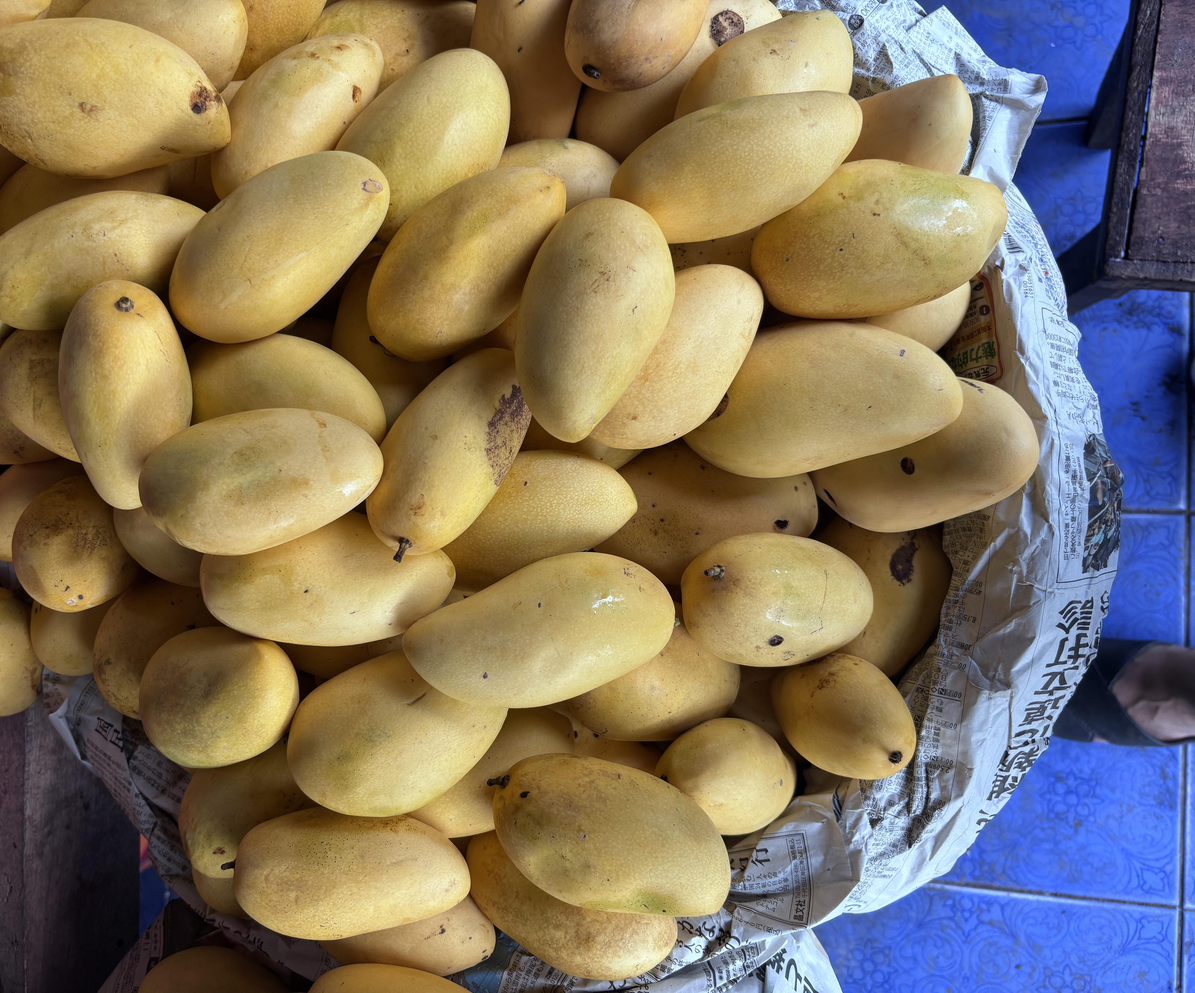mango: (685, 320, 962, 477), (169, 151, 389, 343), (404, 552, 673, 708), (752, 159, 1007, 319), (367, 166, 566, 361), (515, 198, 674, 442), (494, 754, 730, 917), (610, 91, 861, 242), (139, 408, 382, 555), (234, 807, 470, 942), (682, 532, 873, 667), (139, 627, 299, 768)
occluded: (0, 19, 230, 178), (287, 651, 507, 816), (366, 348, 531, 562), (812, 379, 1039, 532), (201, 512, 455, 646), (336, 48, 510, 241), (574, 0, 781, 161), (593, 440, 818, 584), (592, 264, 764, 449), (467, 831, 677, 980), (58, 280, 191, 509), (0, 190, 204, 331), (212, 34, 383, 198), (442, 449, 637, 592), (404, 707, 574, 837), (815, 516, 952, 677), (186, 333, 386, 443), (564, 622, 739, 741), (331, 259, 448, 430), (674, 10, 853, 119), (179, 741, 316, 880), (771, 653, 916, 780), (93, 575, 220, 719), (12, 475, 139, 612), (656, 718, 795, 835), (471, 0, 582, 143), (76, 0, 248, 91), (306, 0, 475, 92), (322, 895, 495, 976), (565, 0, 706, 91), (845, 74, 973, 172), (0, 164, 168, 234), (0, 330, 79, 461), (0, 458, 84, 563), (499, 138, 619, 211), (232, 0, 325, 80), (114, 507, 202, 587), (139, 946, 285, 993), (31, 601, 115, 676), (0, 589, 42, 716), (567, 717, 660, 774), (309, 964, 465, 993), (669, 226, 761, 274), (279, 642, 371, 680), (0, 408, 56, 465), (168, 154, 219, 210), (0, 0, 51, 27)
